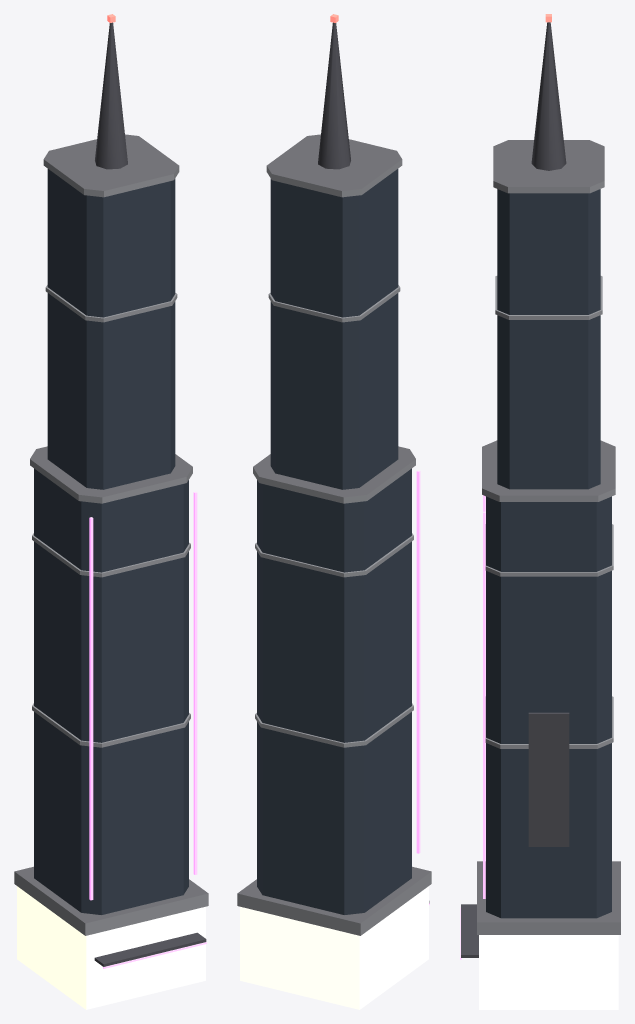
The model's file is s10_pencil.glb.
3 renders of one model, left to right at view 1: azimuth 30°, elevation 25°; view 2: azimuth 150°, elevation 25°; view 3: azimuth 270°, elevation 25°, orthographic.
Visible parts, largest first — view 1: s10_pencil; view 2: s10_pencil; view 3: s10_pencil.
Part boxes in pixels (<box>): s10_pencil: <box>14,14,208,1009</box>; s10_pencil: <box>237,14,431,1009</box>; s10_pencil: <box>460,14,620,1009</box>.
Size of the model in its own units: 10.3 by 76.21 by 11.51.
